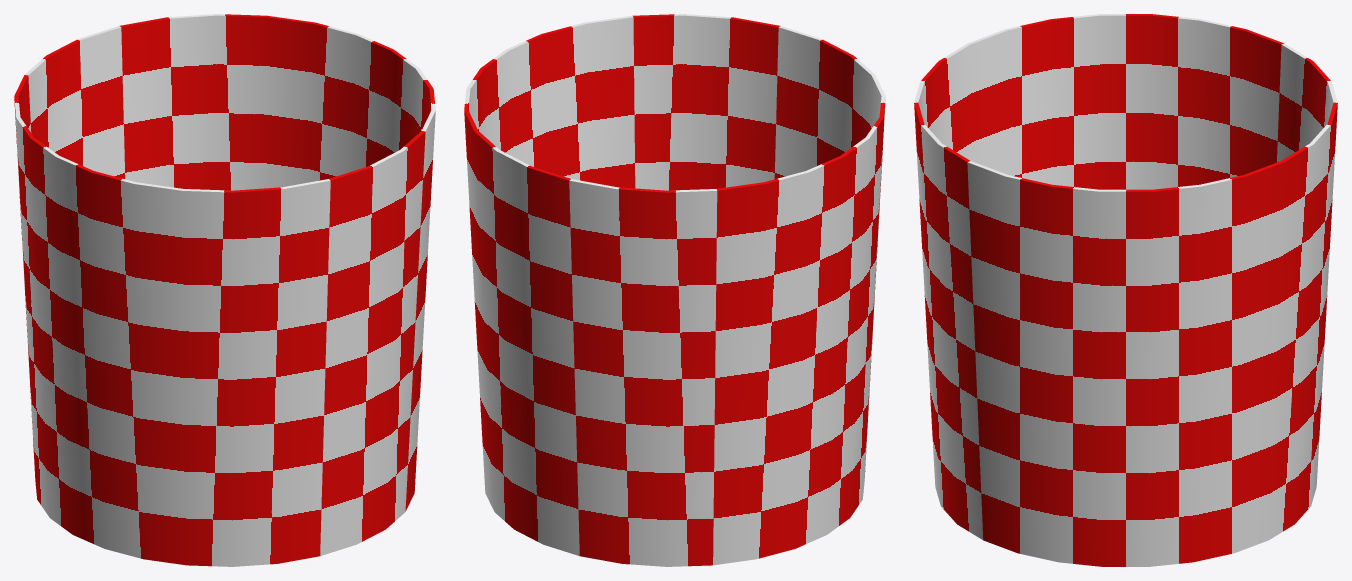
The model's file is bucket.dae.
3 views of the same model, side by side, from view 1: azimuth 30°, elevation 25°; view 2: azimuth 150°, elevation 25°; view 3: azimuth 270°, elevation 25° (orthographic).
Visible parts, largest first — view 1: Circle; view 2: Circle; view 3: Circle.
Part boxes in pixels (x1=…): Circle: x1=14, y1=14, x2=435, y2=566; Circle: x1=464, y1=14, x2=885, y2=566; Circle: x1=914, y1=14, x2=1337, y2=566.
Size of the model in its own units: 0.9927 by 1 by 1.
Materials: 1 (1 with a texture image).
